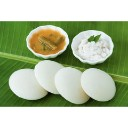idly: (9, 68, 49, 100), (57, 66, 90, 103), (82, 67, 116, 101), (35, 60, 66, 94)
